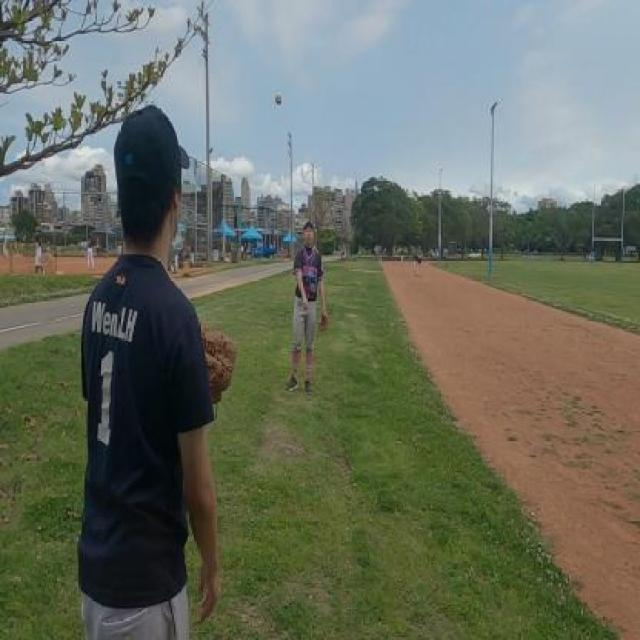baseball: (276, 93, 282, 105)
